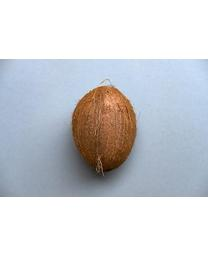coconut: (71, 86, 137, 172)
